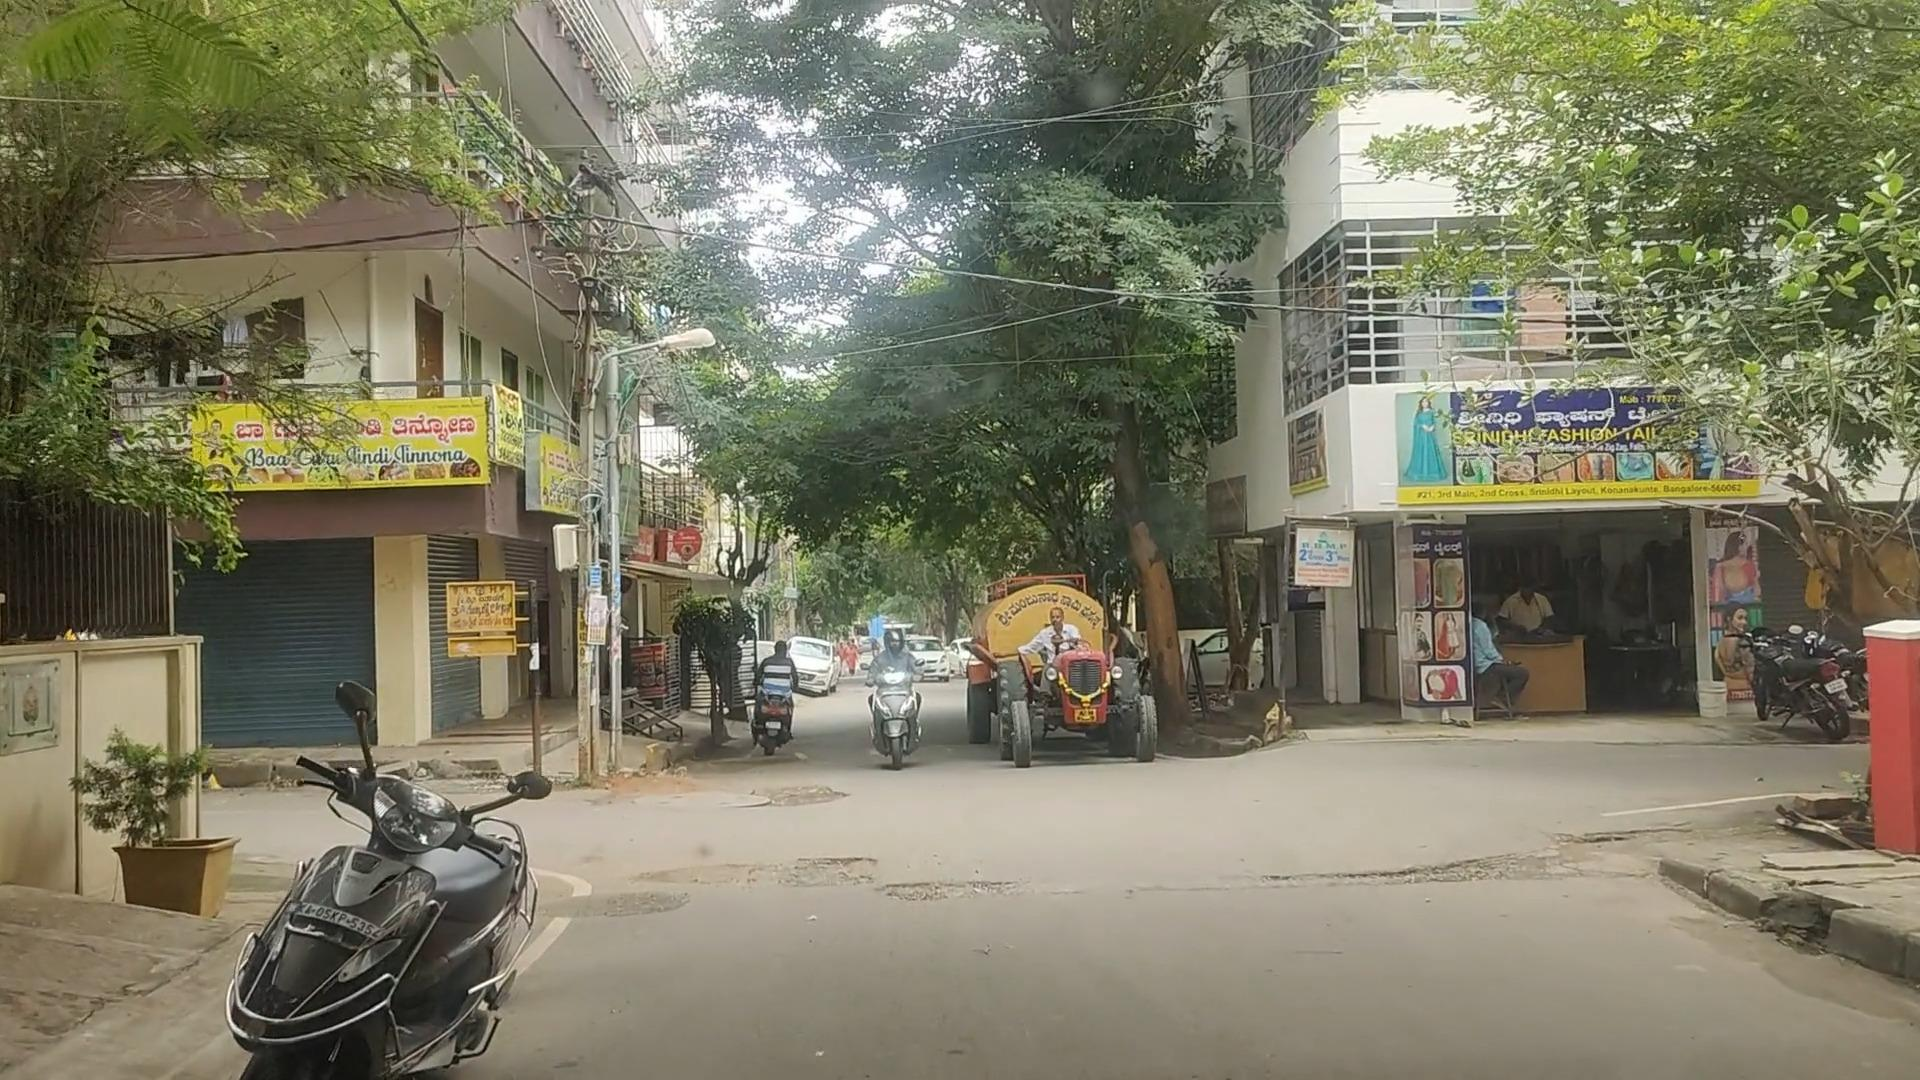HMV: (952, 579, 1151, 762)
LMV: (208, 691, 559, 1080), (861, 633, 934, 766), (756, 630, 822, 756)
RoadDamages: (1200, 811, 1650, 905), (728, 837, 881, 902), (878, 833, 1021, 902), (727, 767, 865, 822)
